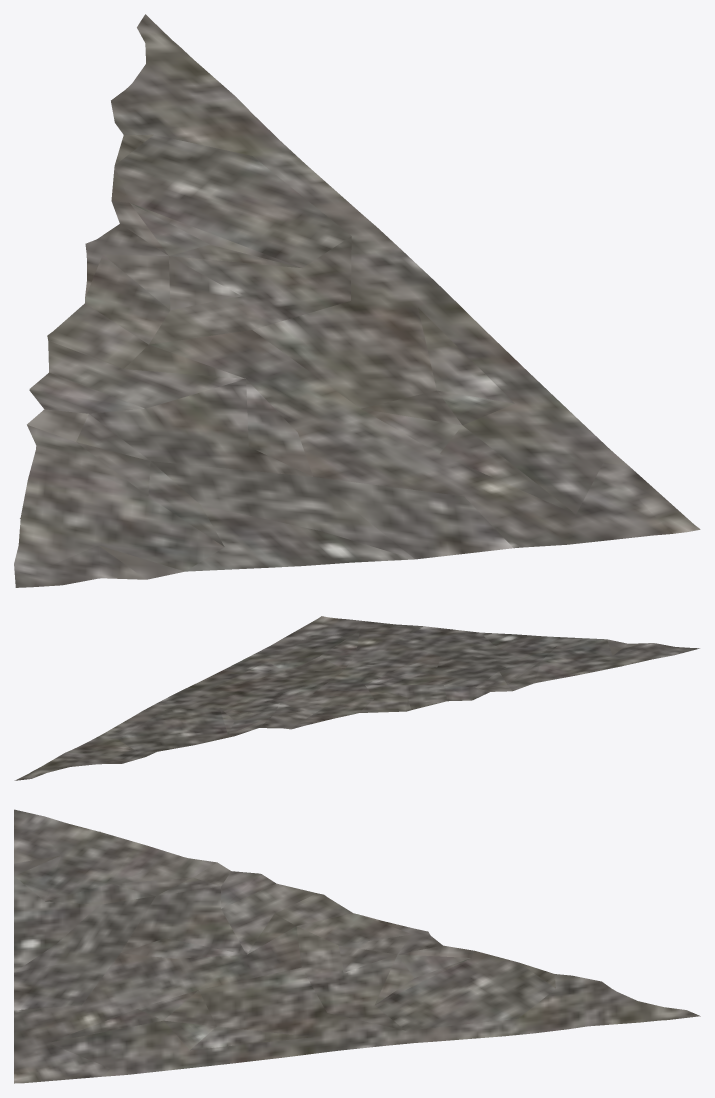
The picture shows the model from 3 angles, top to bottom: view 1: azimuth 30°, elevation 25°; view 2: azimuth 150°, elevation 25°; view 3: azimuth 270°, elevation 25°; orthographic projection. The views are drawn at different scales.
Bounding box in the file's own units: 0.3695 × 0.0561 × 0.519.
1 material, 1 textured.
